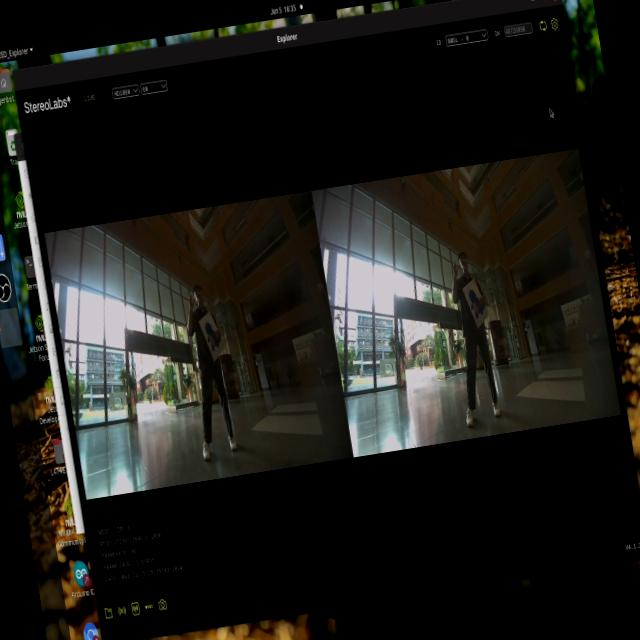blue: (459, 283, 490, 332), (202, 317, 225, 360)
